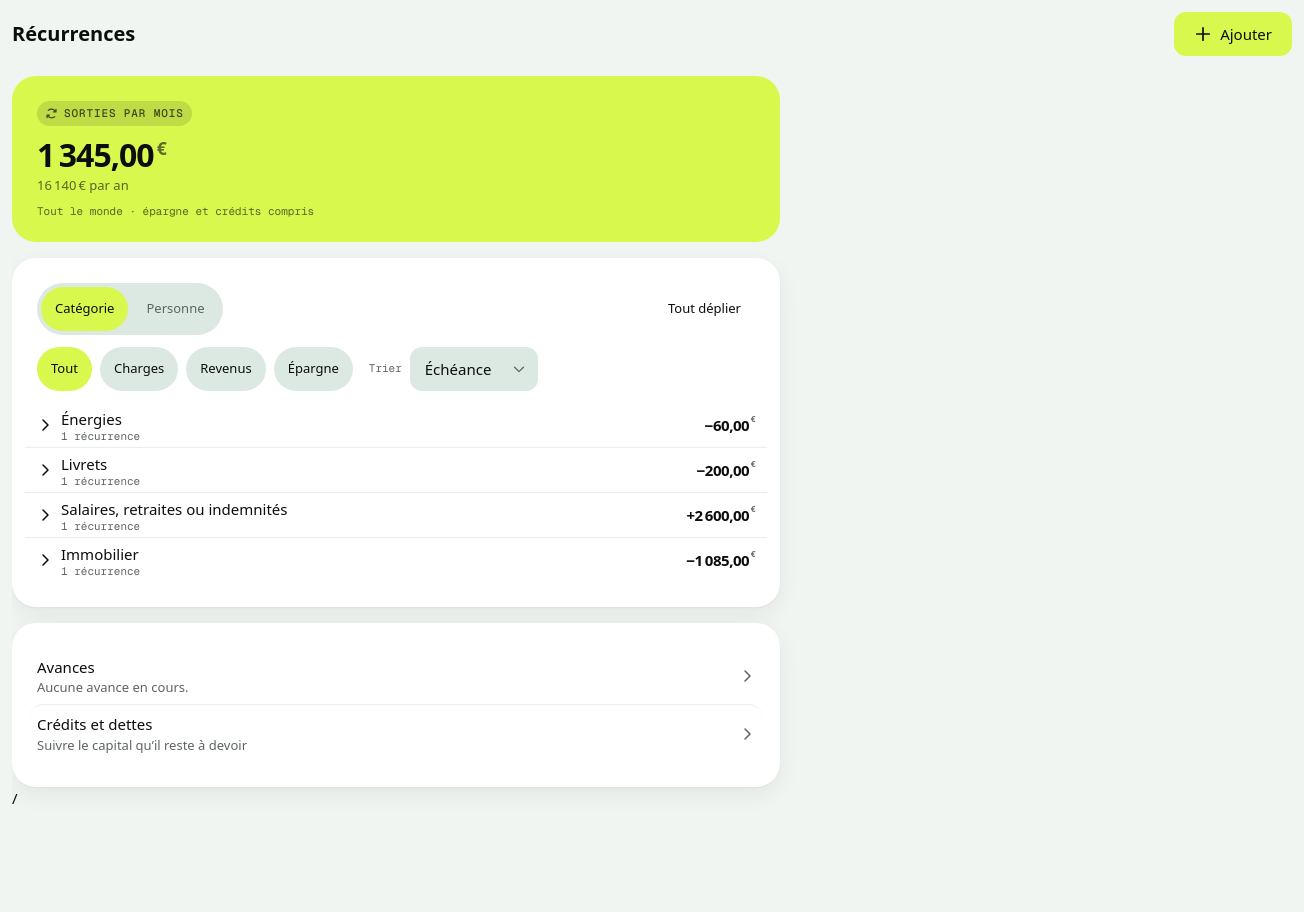
RecurrencesPage › les filtres › retirent ce qu’on ne regarde pas
Click the button "Épargne".
click(313, 369)  # box [274, 347, 353, 391]
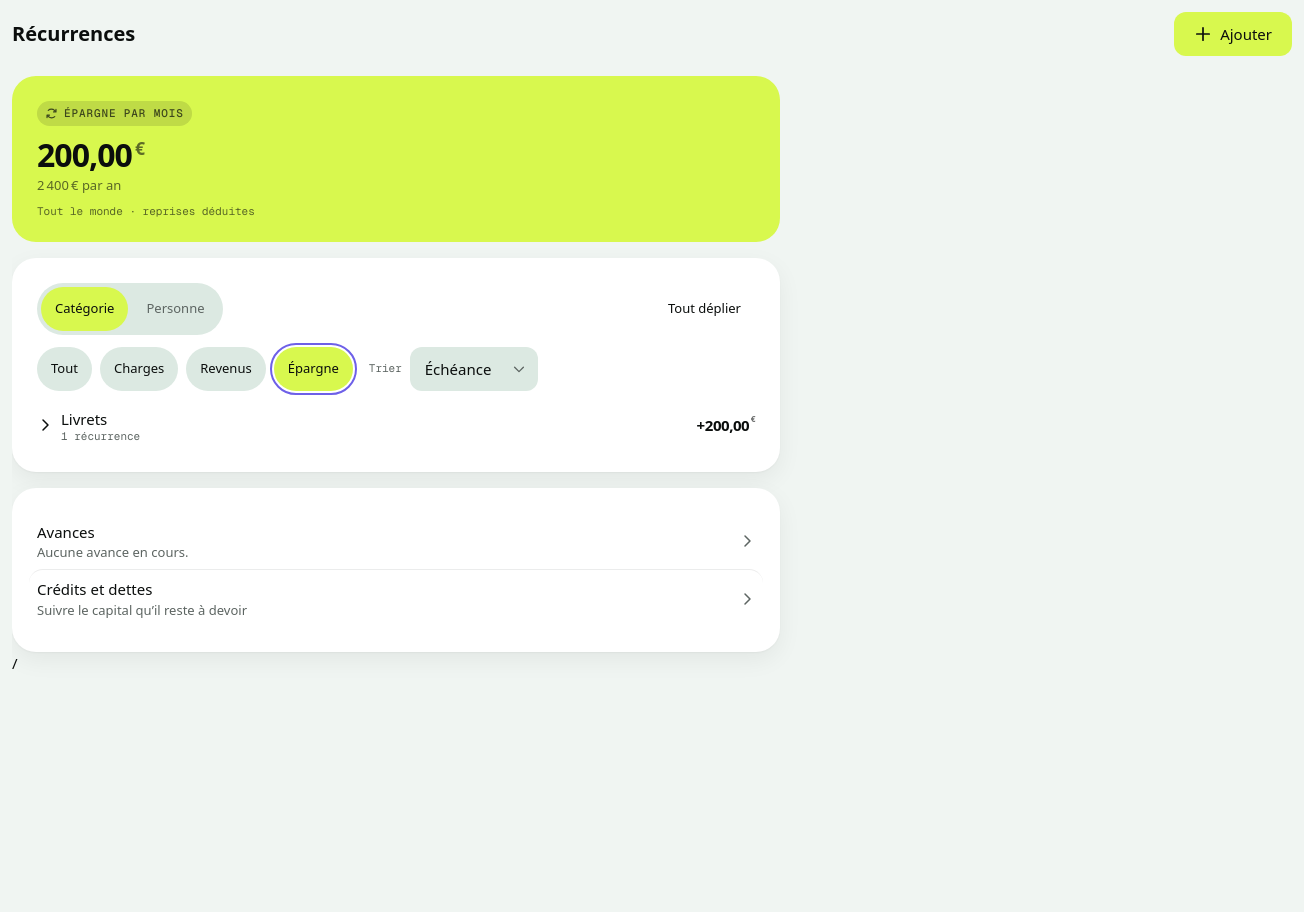
Expected: the heading "Livrets 1 récurrence +200,00 €" is shown, [25, 403, 767, 447]
Result: the heading "Immobilier" no longer shows "Immobilier"
